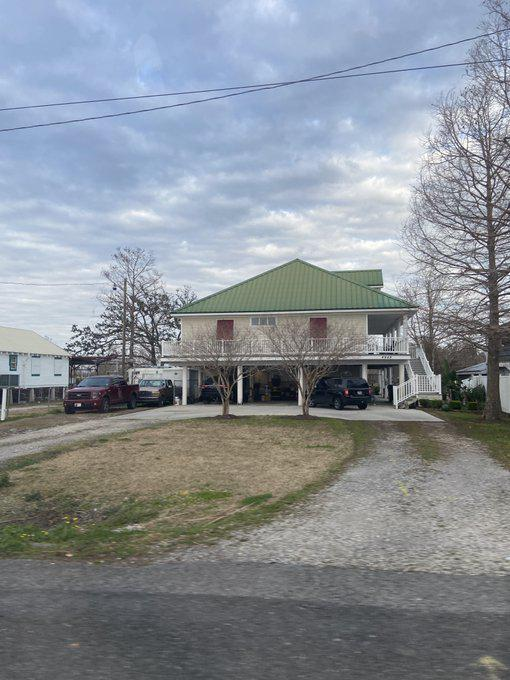affected: (158, 252, 450, 412)
